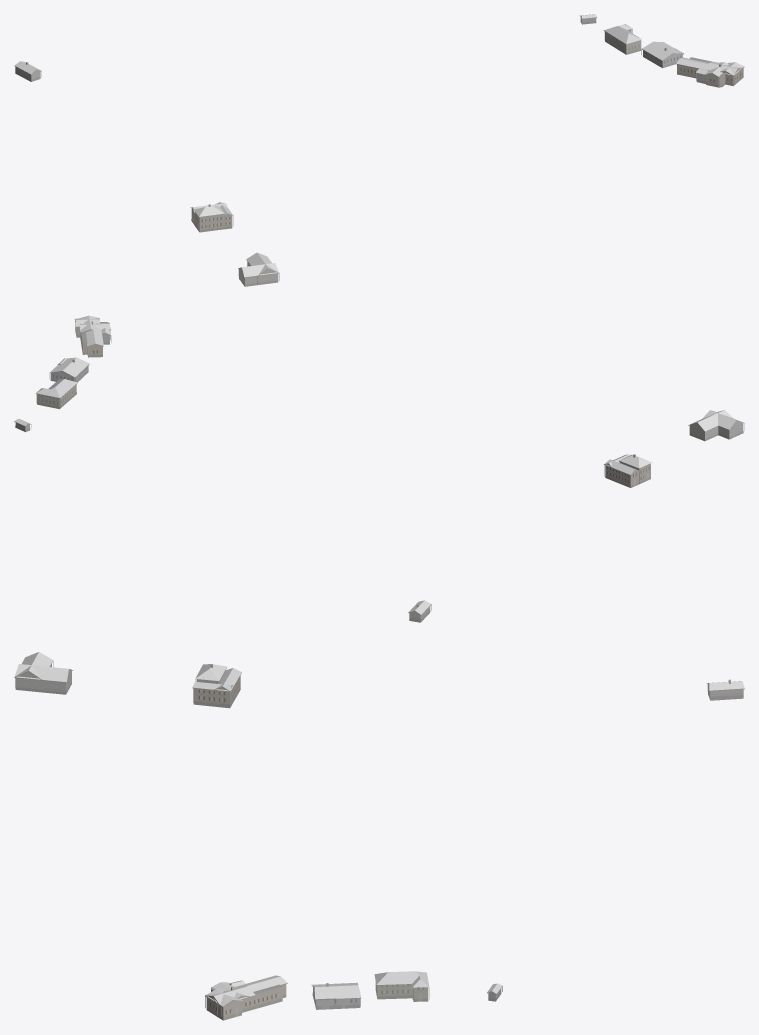
3 renders of one model, top to bottom at view 1: azimuth 30°, elevation 25°; view 2: azimuth 150°, elevation 25°; view 3: azimuth 270°, elevation 25°, orthographic. The views are drawn at different scales.
Parts seen in each view (by area): view 1: bld; view 2: bld; view 3: bld.
Part boxes in pixels (<box>): bld: <box>14,14,744,286</box>; bld: <box>14,315,744,622</box>; bld: <box>14,652,744,1020</box>.
Bounding box in the file's own units: 268 × 13.71 × 223.
